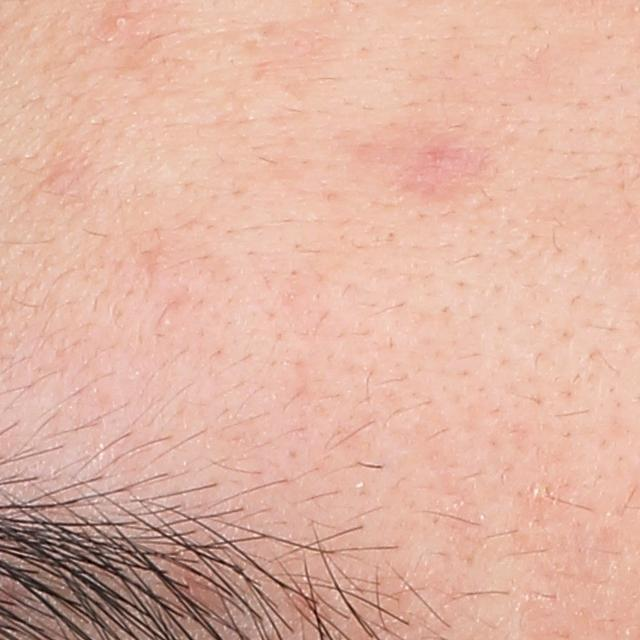comedo: (111, 16, 131, 30)
